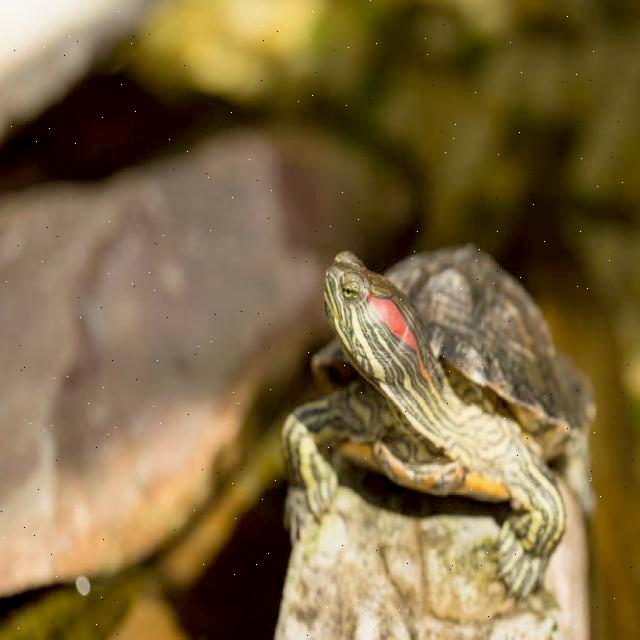tortoise: (289, 235, 577, 572)
